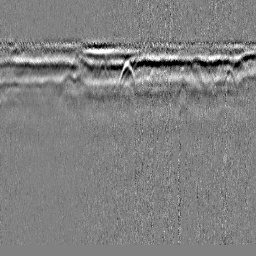cavity: (116, 57, 137, 90)
